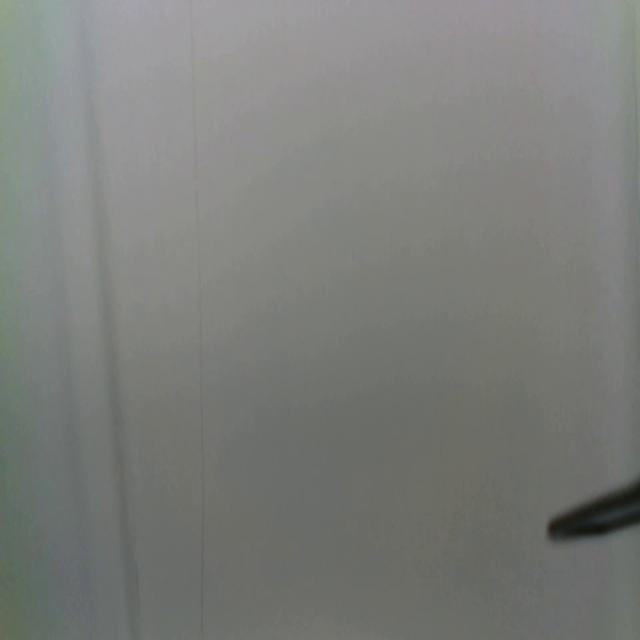crease: (189, 0, 206, 636)
